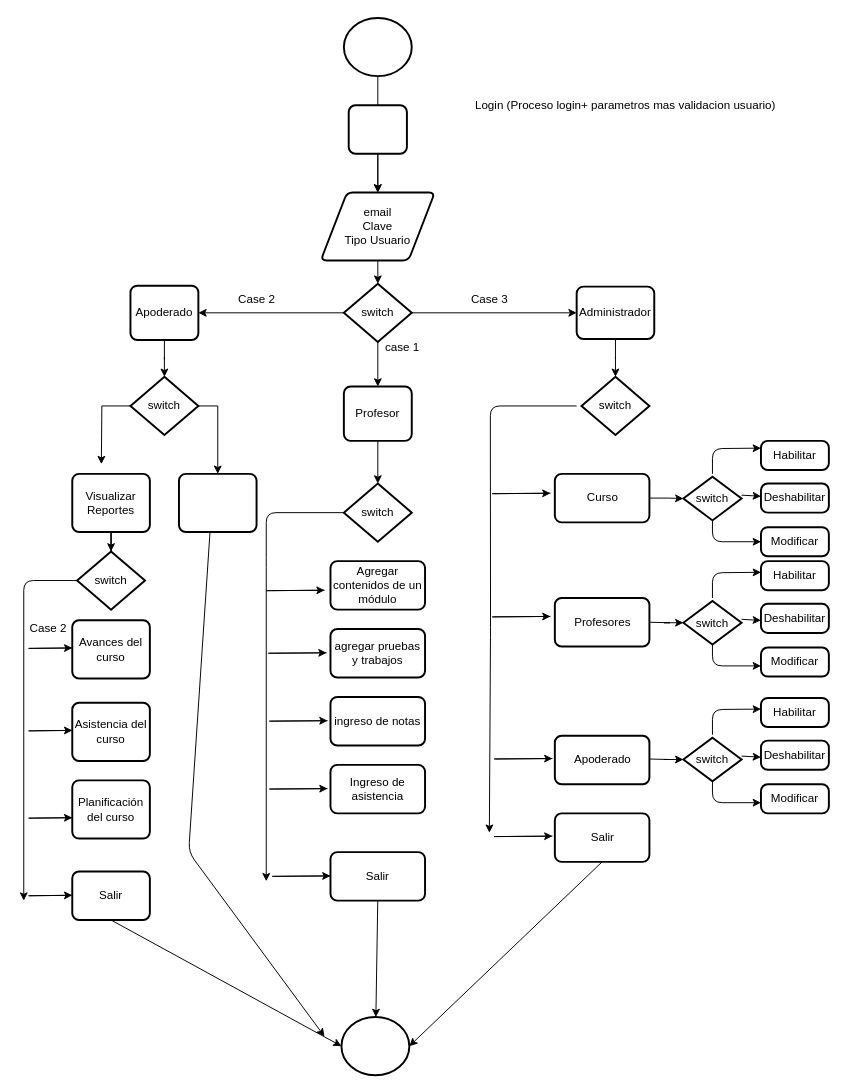
Image size: 847x1092. Some labels were removed from this diagram. The box of each missing label's shape, as (x1, y1, x2, y2) in pixels:
Configurar alarmas inteligentes: (178, 472, 257, 533)
INICIO: (342, 16, 412, 77)
LOGIN: (347, 104, 407, 154)
TERMINO: (340, 1016, 410, 1076)
